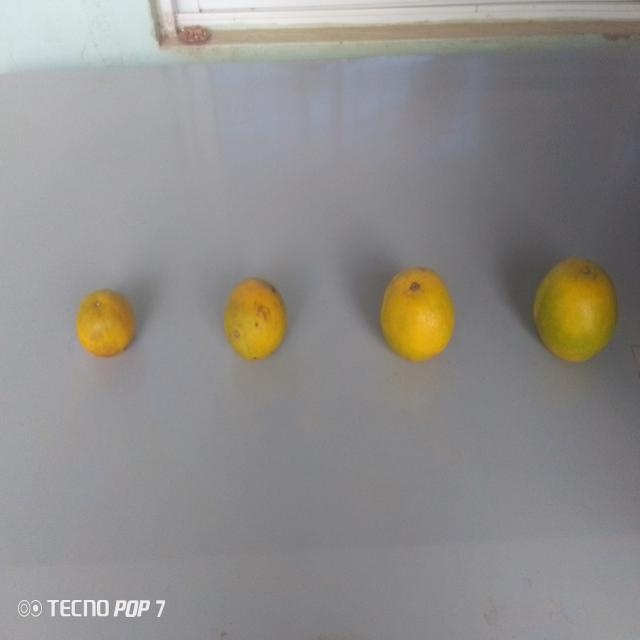agrume: (528, 248, 615, 372), (378, 259, 463, 375), (219, 277, 296, 367), (71, 284, 141, 366)
